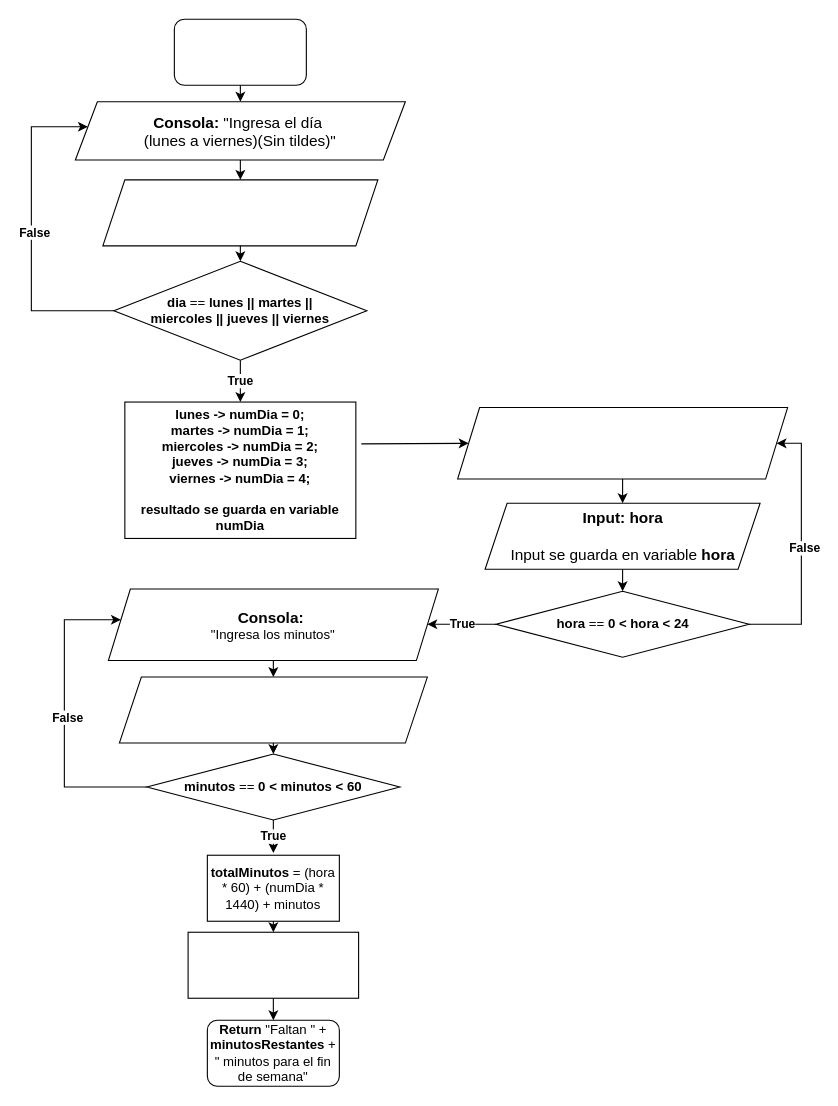
This 838x1106 diagram has some shape labels left out. Here are the shapes that lost their labels. From the top down, the box of each, then its label:
(173, 18, 306, 85): INICIO
(102, 179, 378, 246): Input: día Input se guarda en variable día
(457, 406, 788, 479): Consola: "Ingresa la hora en un formato de 24 horas"
(118, 676, 427, 743): Input: minutos Input se guarda en variable minutos
(187, 931, 359, 998): minutosRestantes = 156960 - totalMinutos
